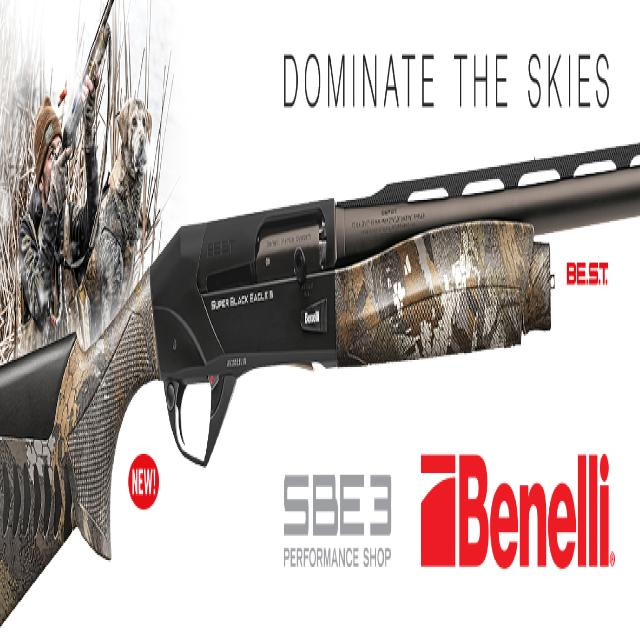Weapon: (0, 125, 640, 619)
